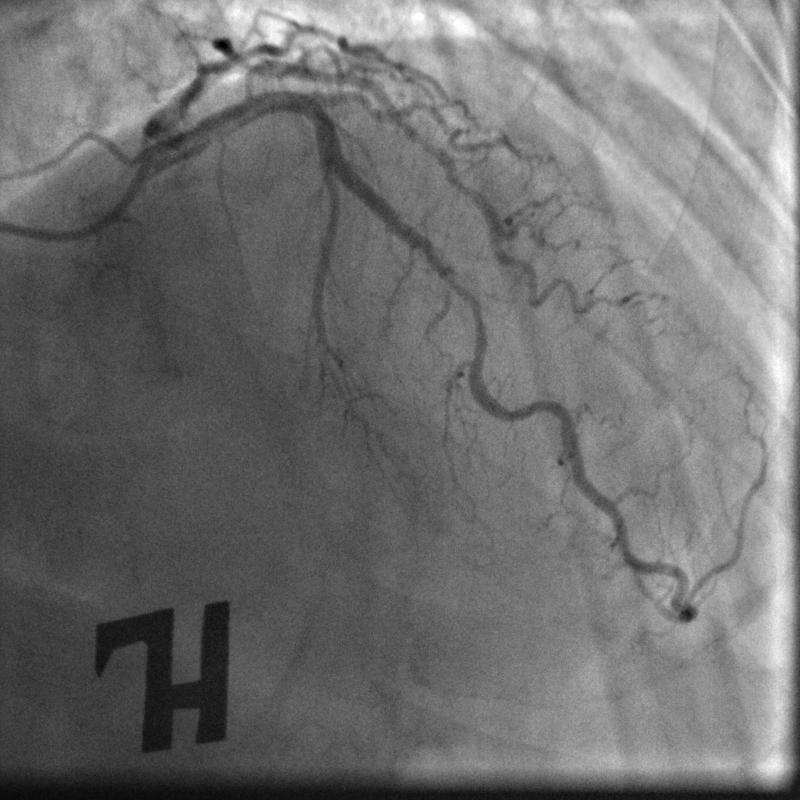Stenosis: (447, 266, 487, 353)
